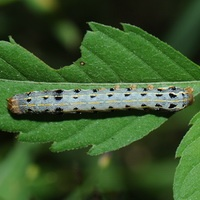insect: (7, 84, 193, 114)
